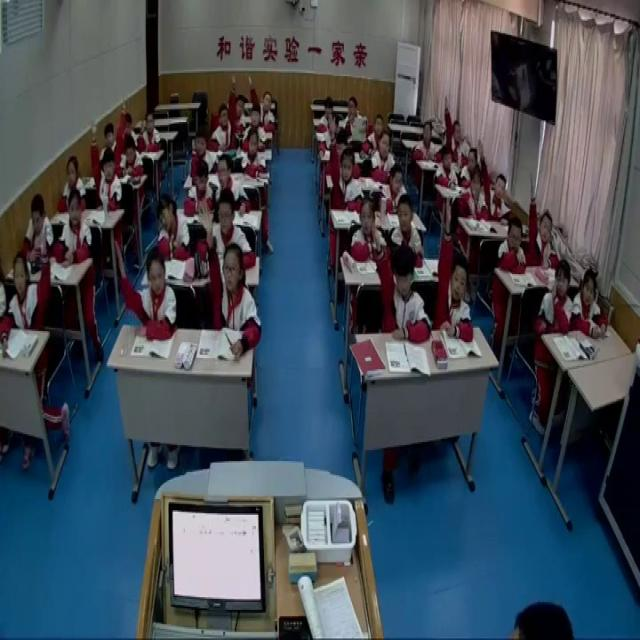distracted: (157, 198, 194, 260), (214, 158, 250, 216), (460, 144, 486, 193)
focused: (206, 190, 258, 268), (55, 191, 94, 266), (568, 268, 606, 344), (536, 259, 572, 337), (22, 189, 56, 271), (352, 198, 388, 260), (393, 200, 425, 268), (497, 217, 530, 279), (240, 123, 268, 184), (462, 168, 492, 224), (59, 154, 89, 210), (369, 132, 401, 184), (384, 165, 415, 215), (244, 103, 275, 151), (411, 121, 440, 167), (190, 158, 212, 212), (193, 130, 220, 174), (435, 147, 461, 191), (340, 93, 364, 139), (121, 132, 144, 179), (366, 114, 389, 154), (318, 98, 337, 125)
raising_hand: (198, 197, 263, 358), (368, 216, 428, 347), (110, 237, 180, 346), (438, 196, 475, 342), (5, 224, 52, 332), (327, 112, 362, 212), (476, 134, 514, 222), (90, 116, 123, 214), (526, 166, 556, 267), (210, 70, 238, 155), (95, 93, 128, 161), (441, 94, 467, 170), (247, 73, 277, 133), (136, 109, 166, 154)
